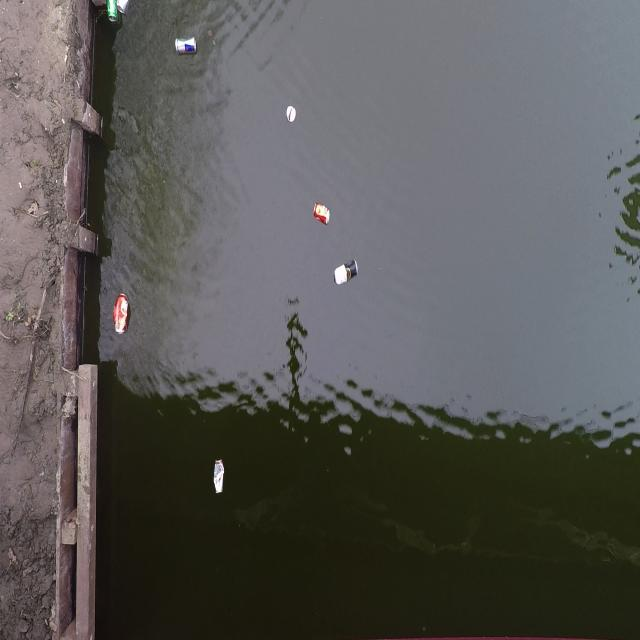Non plastique: (109, 280, 135, 344), (167, 32, 205, 71), (332, 258, 362, 286), (210, 455, 226, 504), (311, 197, 336, 228)
